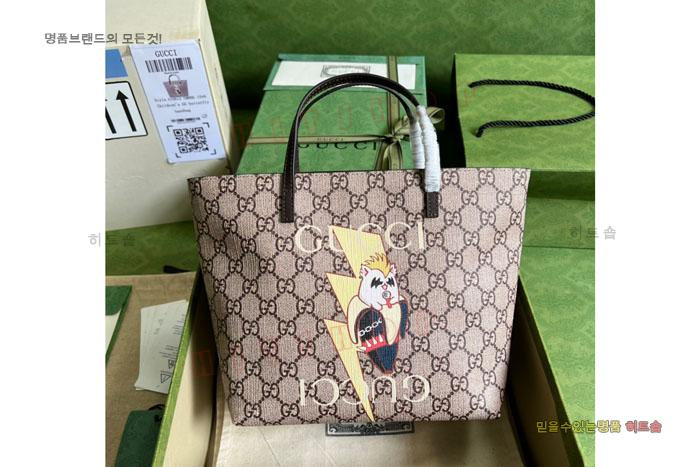Gucci: (190, 68, 519, 441), (442, 192, 497, 409), (290, 208, 446, 267)
